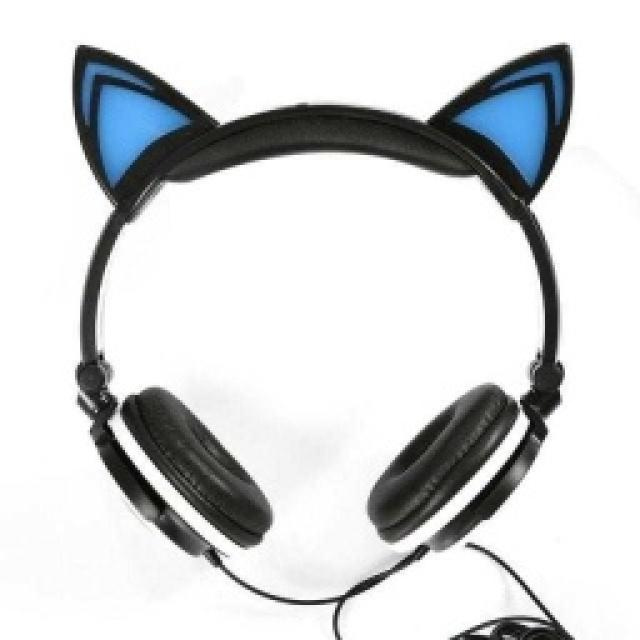headphones: (67, 38, 575, 600)
